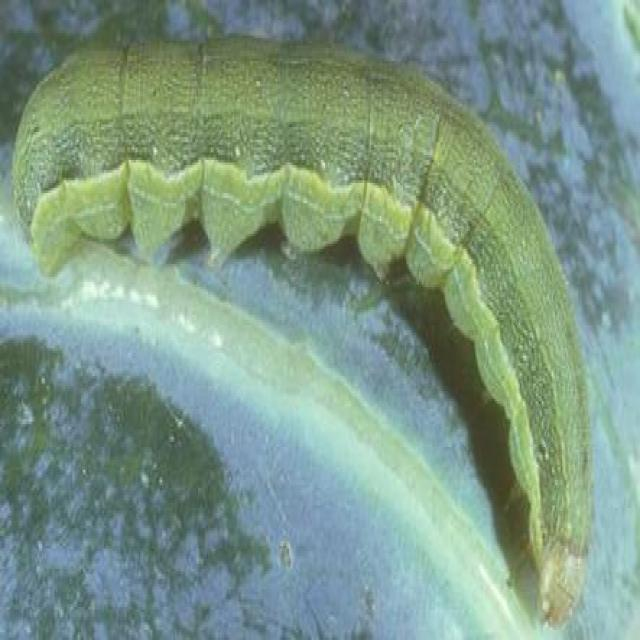BeetArmyWorm-Larva-: (8, 29, 602, 623)
